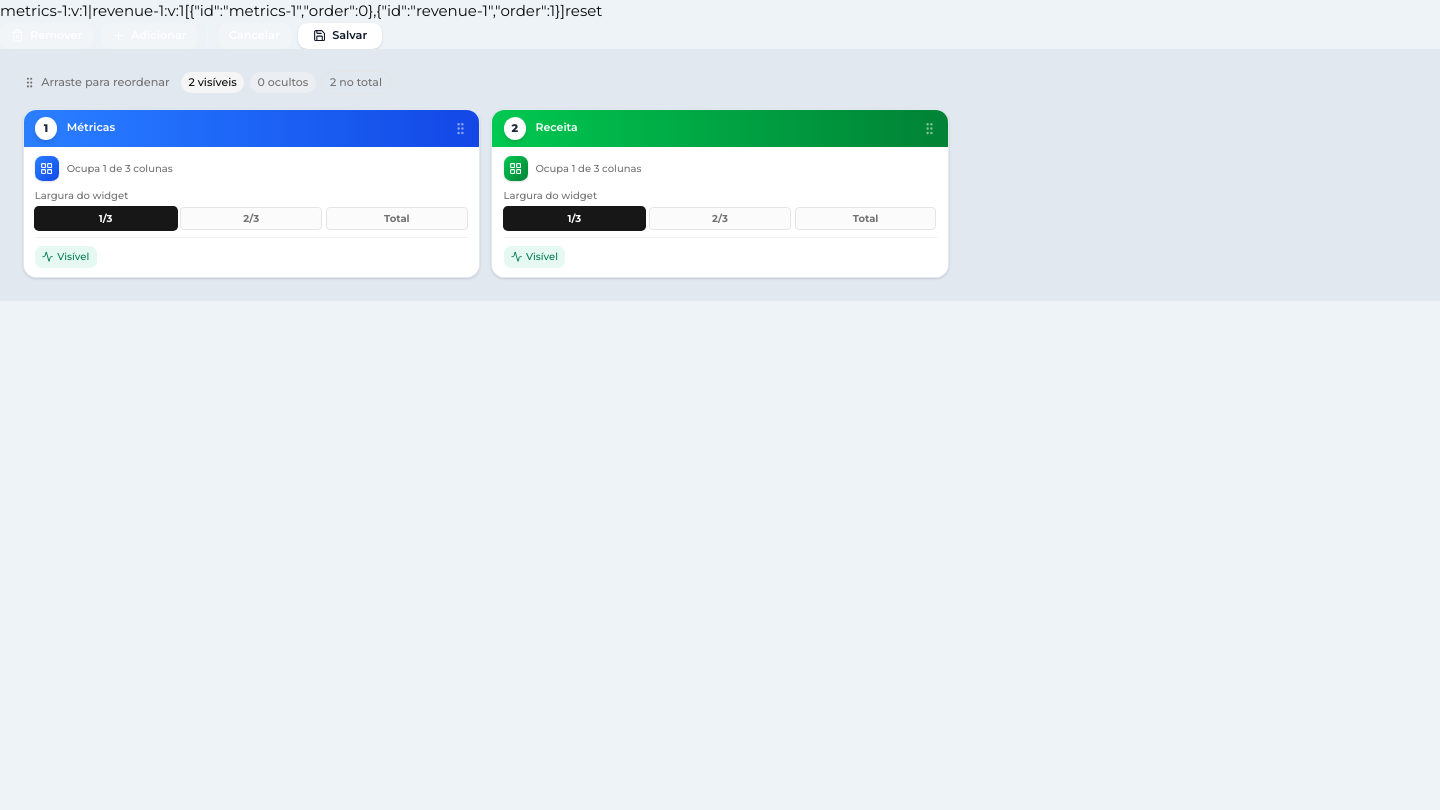
Item 4 — comportamentos preservados (adicionar/remover/ocultar/exibir/arrastar) › Remover: confirmação dupla e então some do rascunho
Click the button "Remover".
click(47, 36)  # box [0,22,94,49]
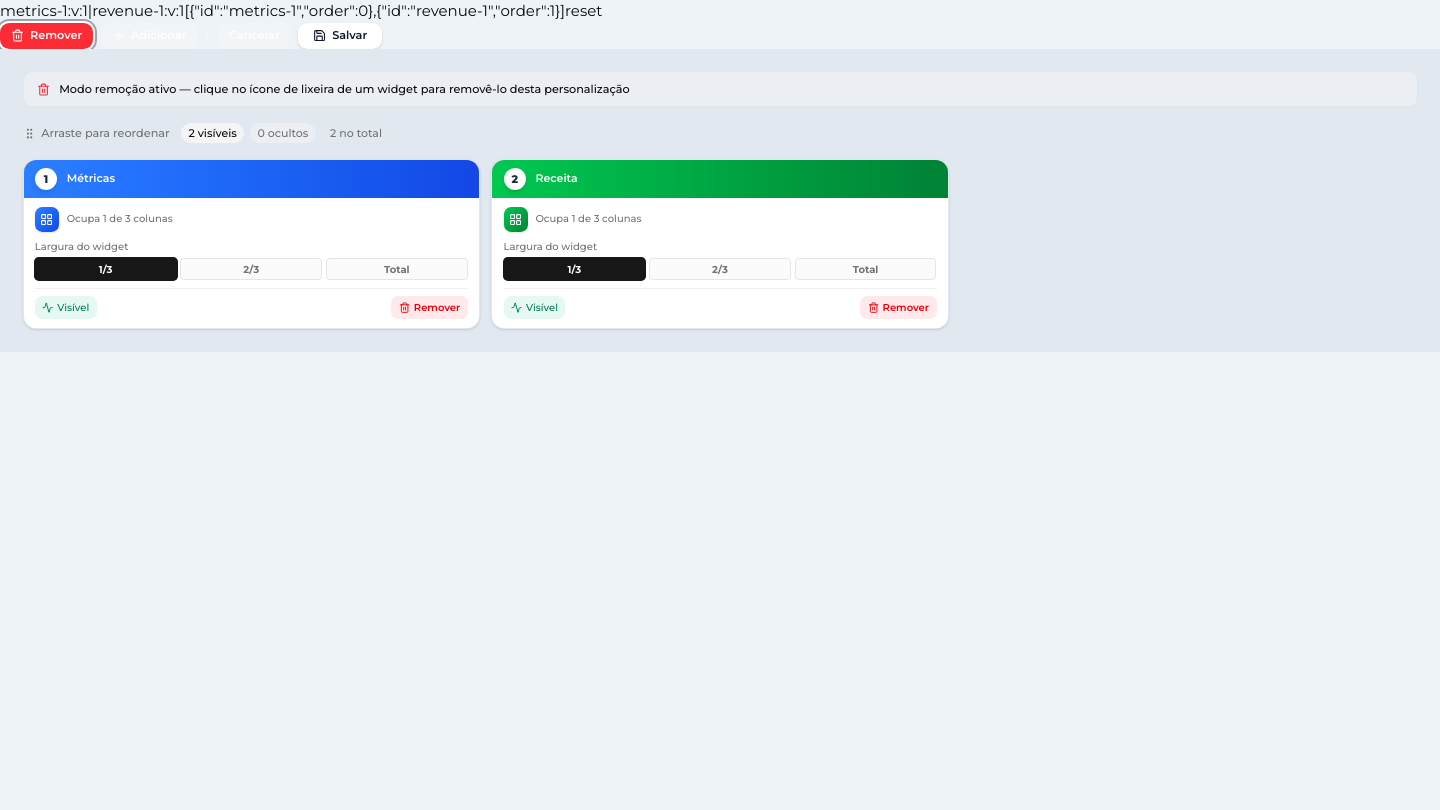
Click the button with aria-label "remover widget métricas".
click(430, 308)  # box [391,296,468,319]
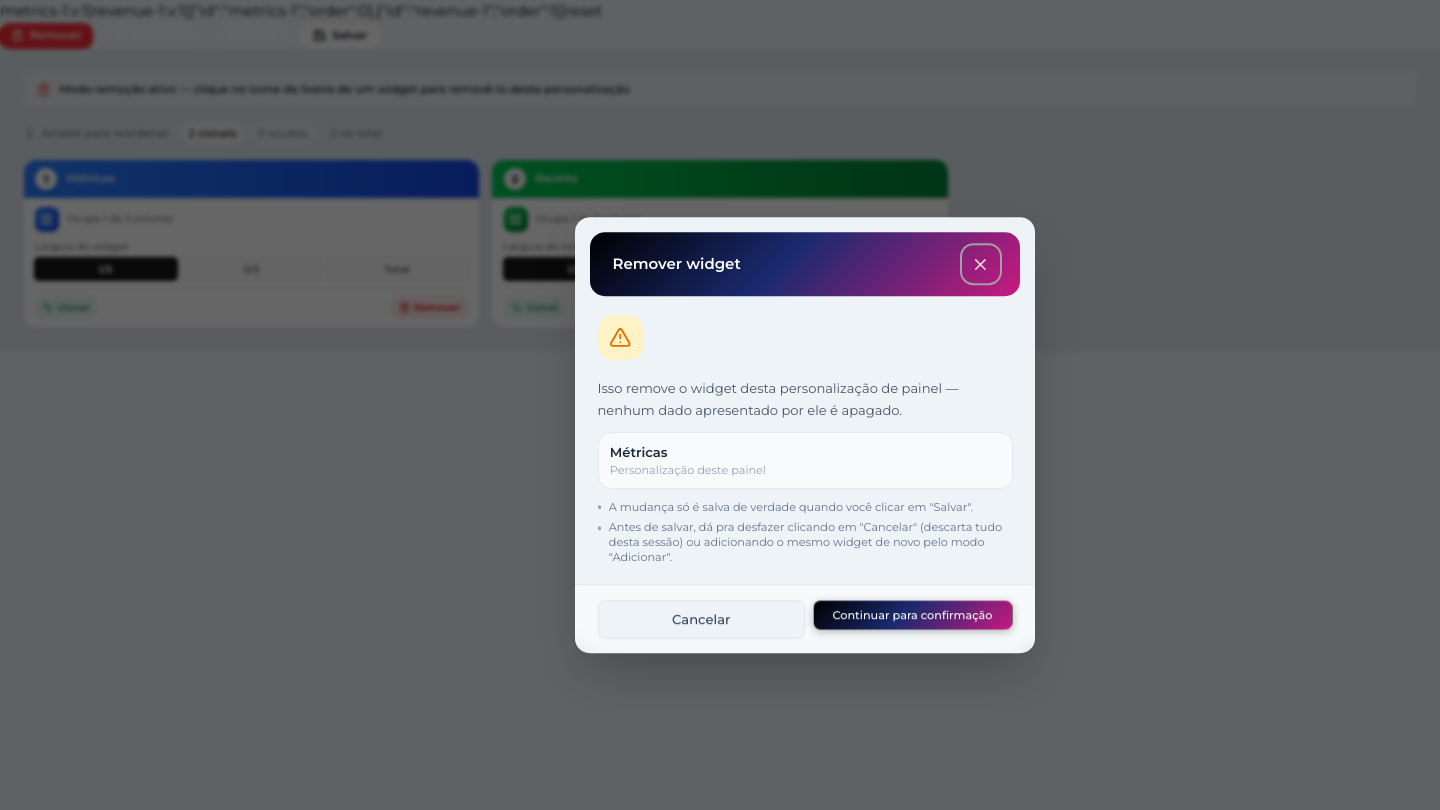
Click the button "Continuar para confirmação".
click(912, 615)  # box [812,600,1012,630]
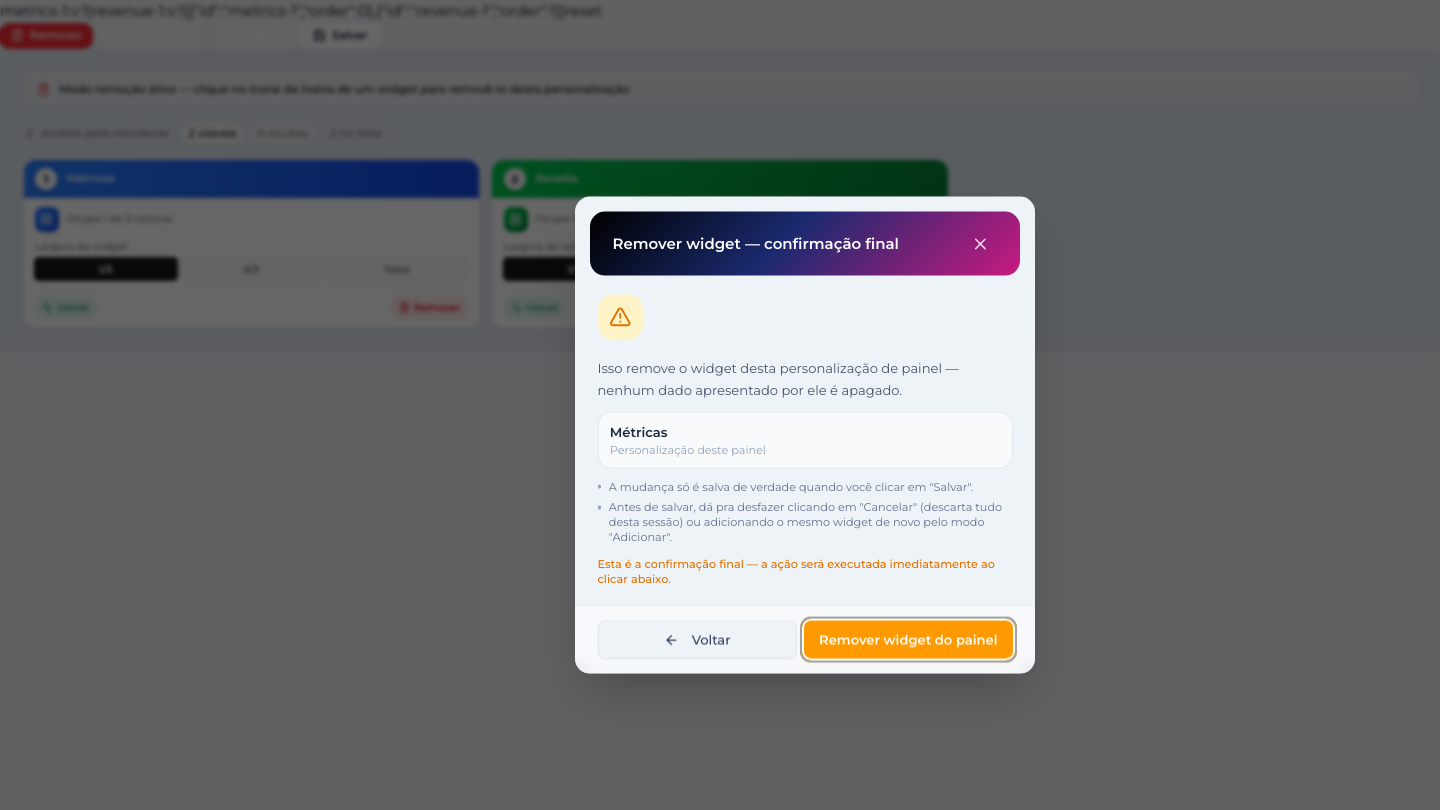
Click the button "Remover widget do painel".
click(908, 640)  # box [804,621,1012,658]
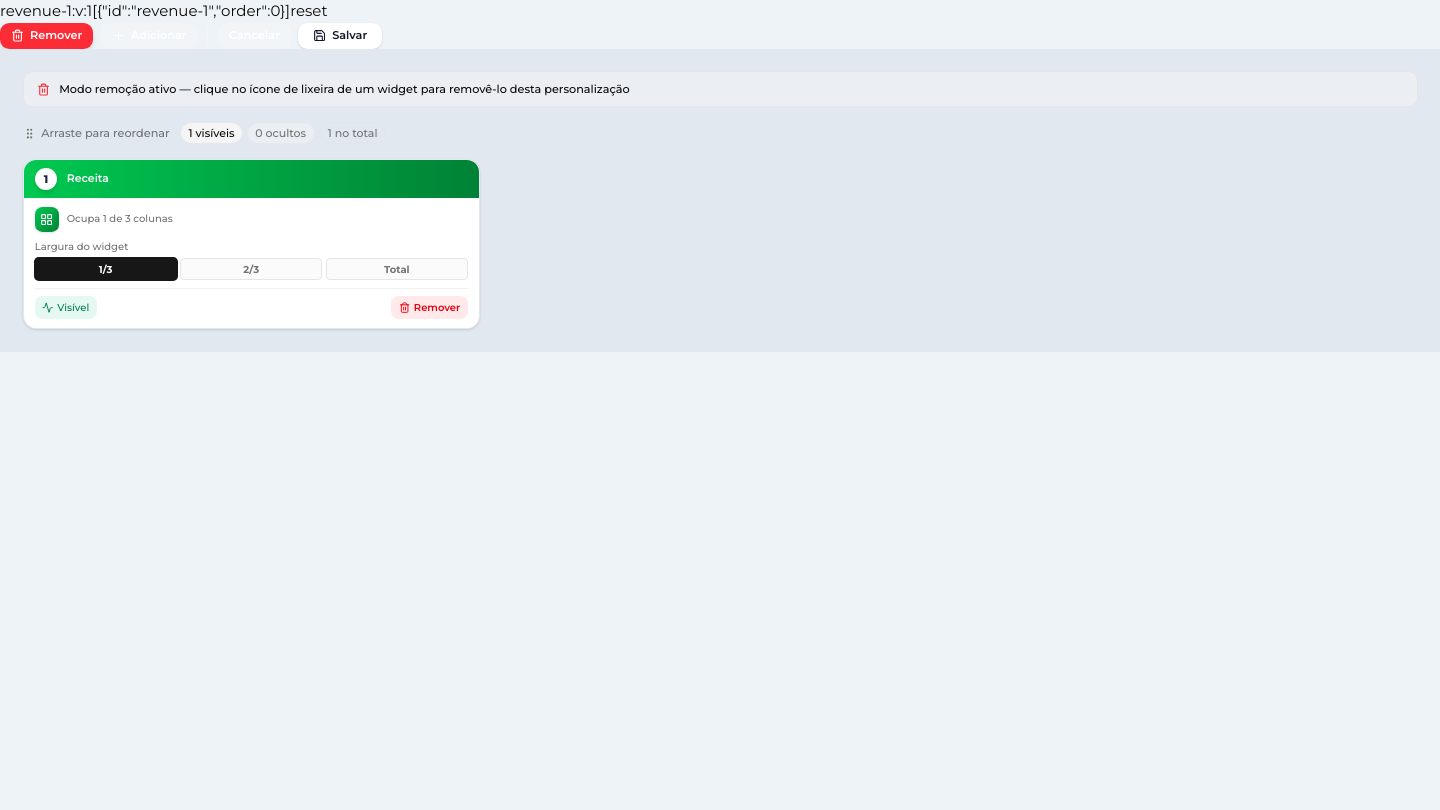
Expected: the text with test id "ids" reads "revenue-1:v:1", [0,1,92,20]
